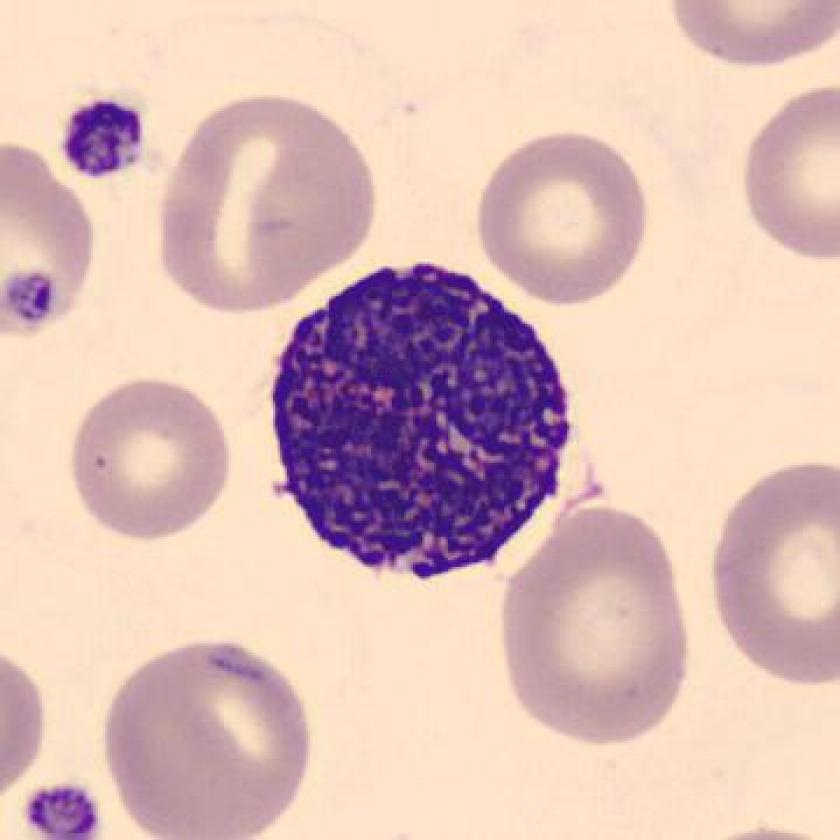basophil: (262, 265, 580, 586)
